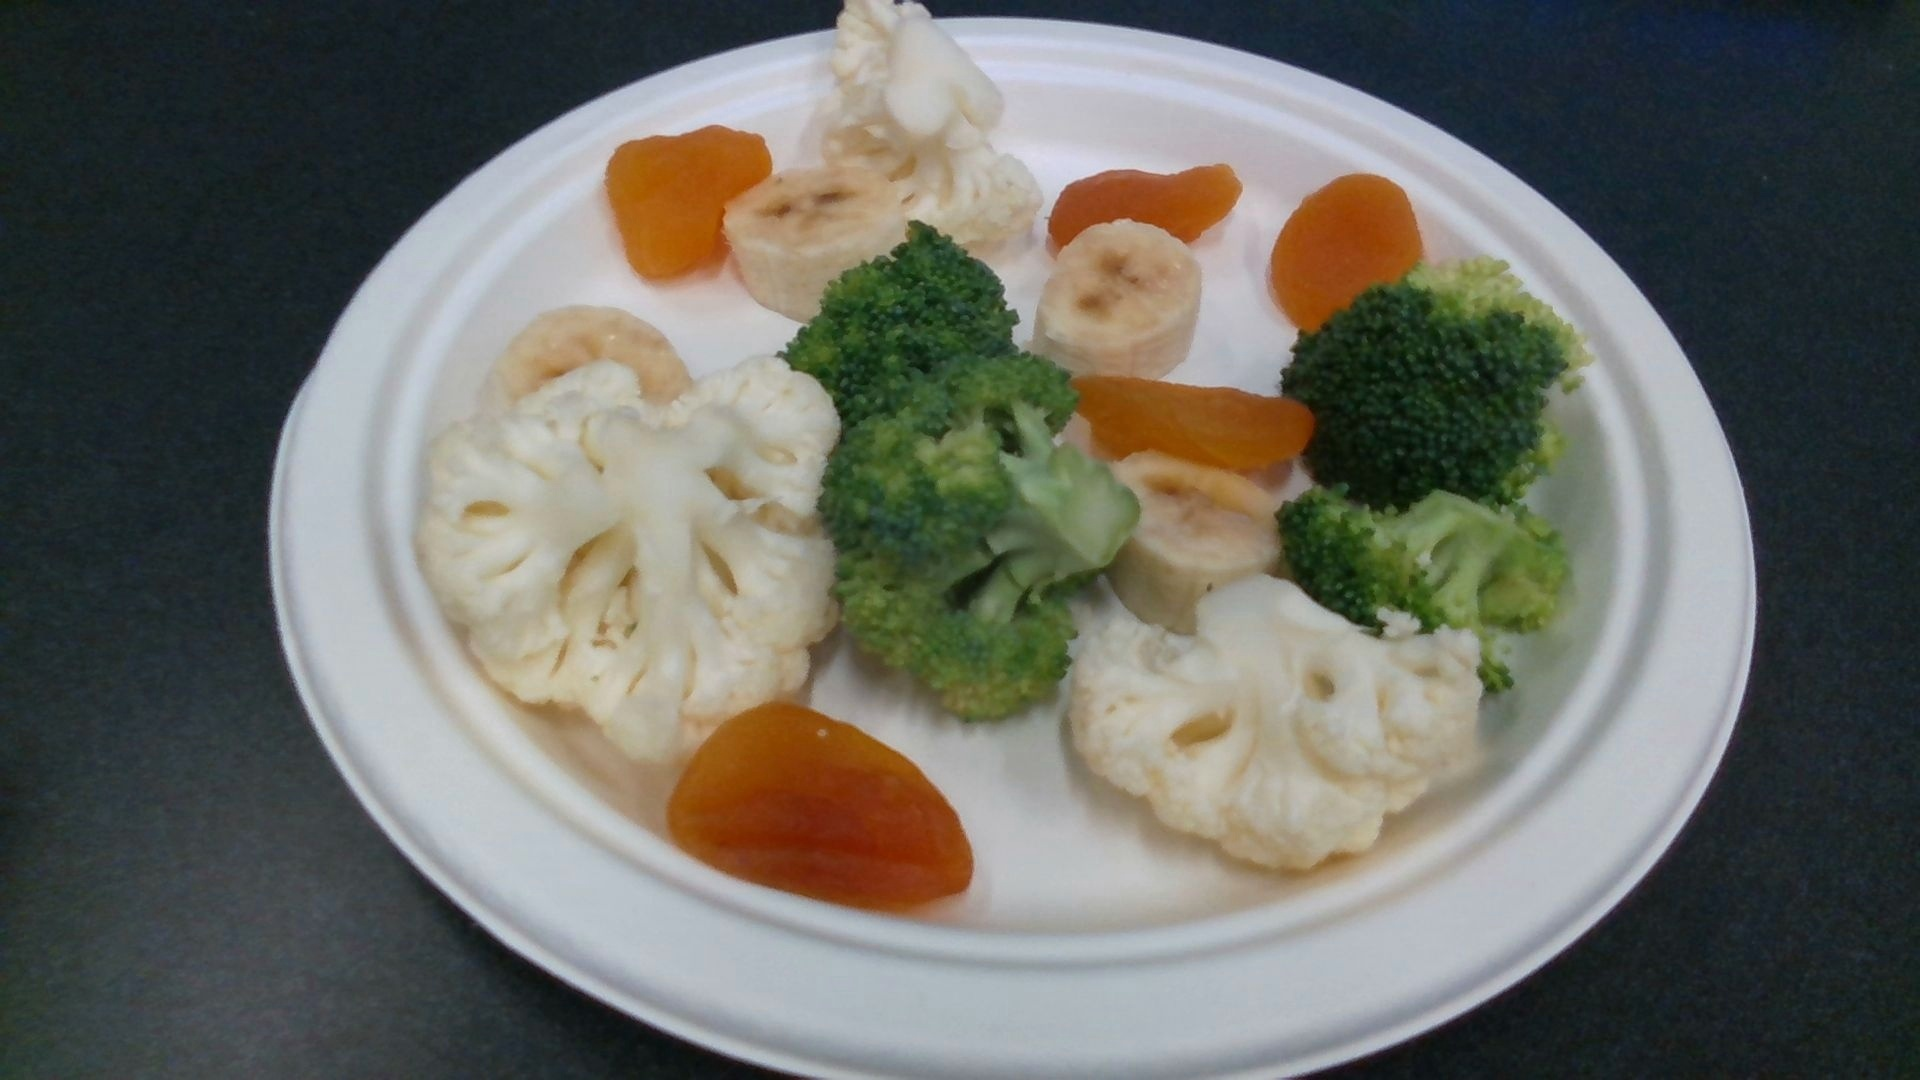apricot: (670, 702, 975, 910), (1055, 376, 1317, 475), (605, 127, 771, 278), (1267, 171, 1422, 334), (1050, 166, 1240, 256)
banana: (1102, 450, 1280, 628), (723, 164, 899, 318), (1036, 222, 1200, 381)
broccoli: (824, 357, 1139, 711), (1284, 262, 1586, 512), (1275, 491, 1572, 702), (777, 223, 1021, 419)
cauliflower: (415, 356, 837, 753), (1069, 575, 1480, 868), (820, 1, 1044, 240)
